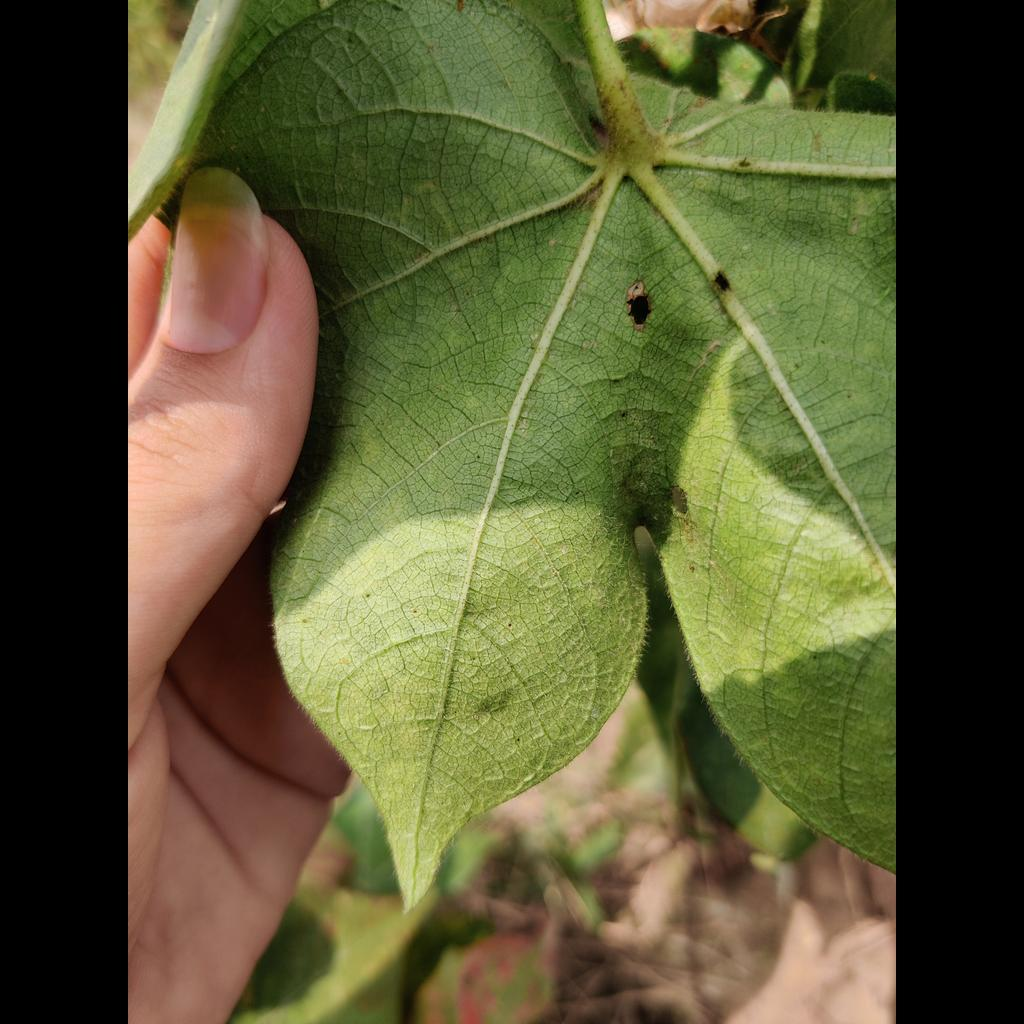nymph: (530, 333, 538, 341), (850, 535, 858, 541), (743, 246, 748, 250)
